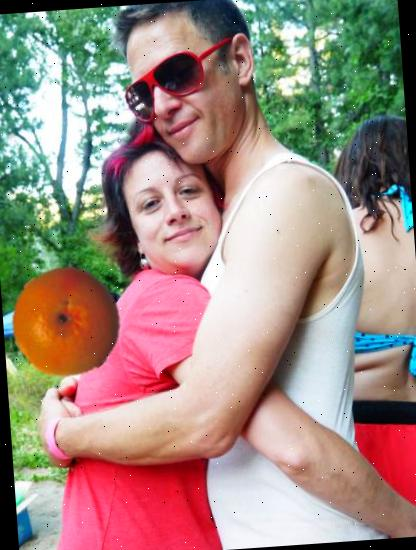Grapefruit: (7, 262, 126, 381)
